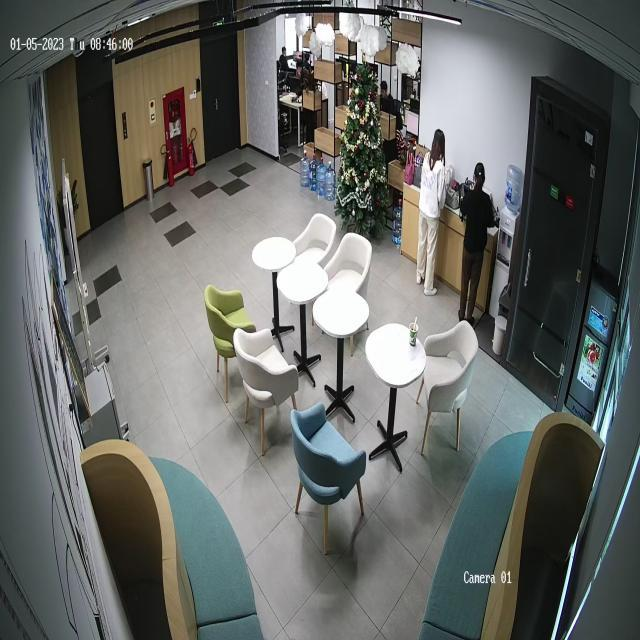person: (457, 162, 497, 326), (416, 129, 449, 297)
